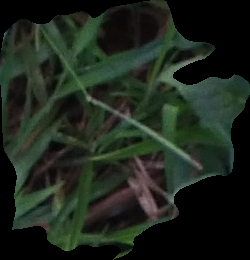grass: (1, 1, 247, 258)
